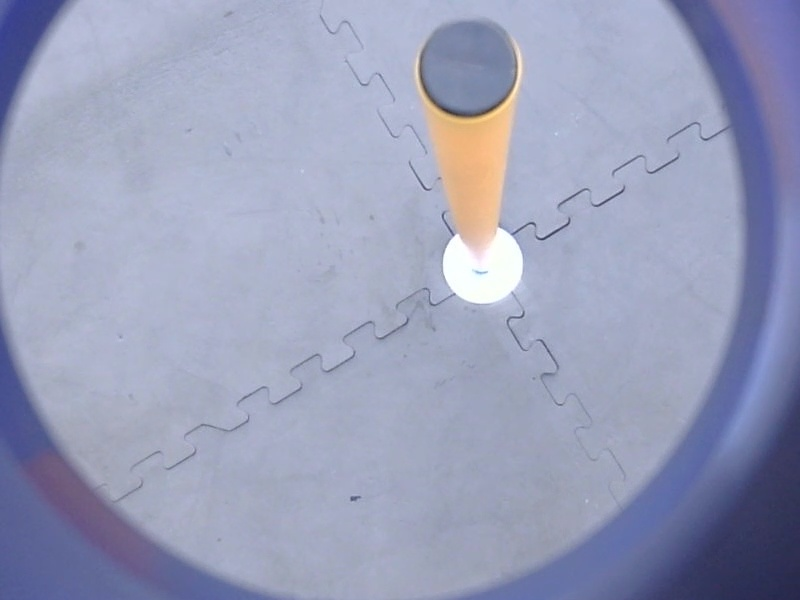tip: (409, 12, 531, 128)
